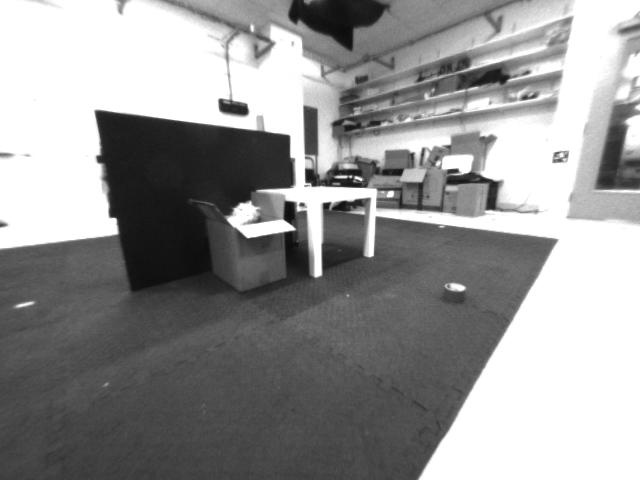dogtoy: (425, 275, 469, 309)
